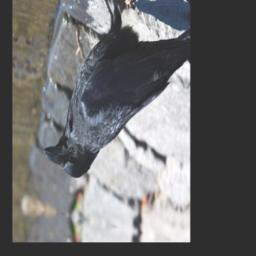Crow: (40, 0, 189, 205)
